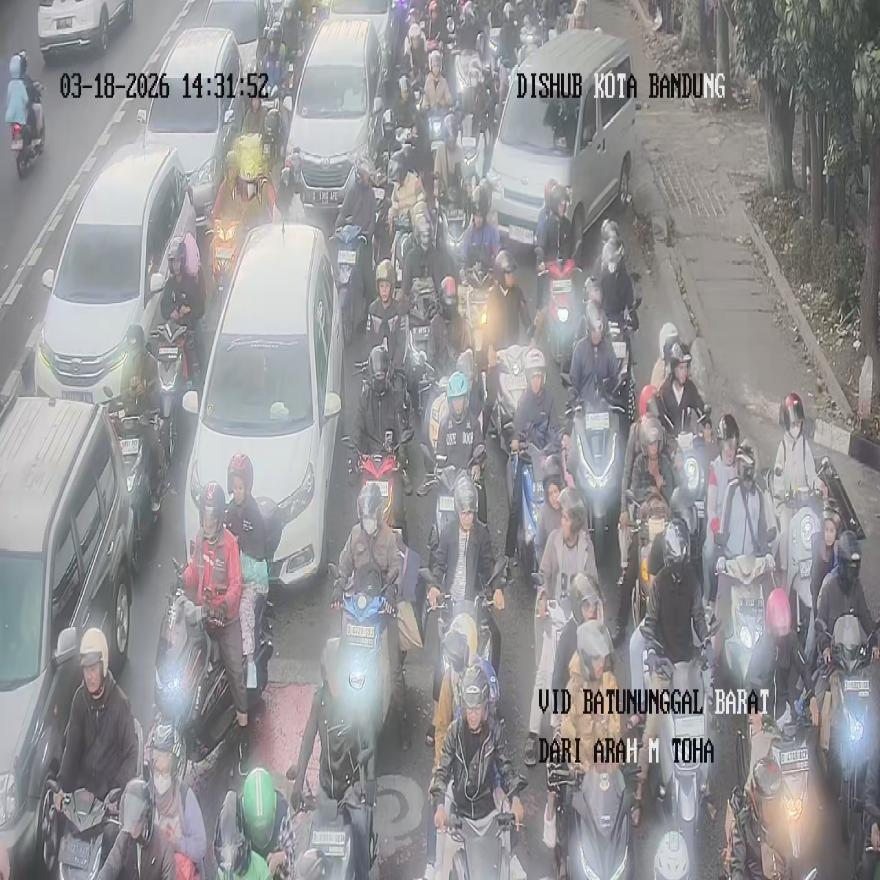Mobil: (0, 397, 132, 875), (184, 221, 344, 587), (34, 140, 197, 416), (484, 26, 637, 259), (140, 27, 243, 222), (285, 18, 383, 209), (36, 0, 132, 60)
Motor: (154, 556, 274, 791), (423, 558, 505, 744), (644, 652, 710, 877), (816, 616, 880, 848), (725, 709, 811, 880), (329, 561, 405, 753), (769, 468, 825, 661), (288, 766, 379, 880), (546, 761, 632, 880), (114, 397, 170, 573), (436, 775, 526, 880), (714, 554, 774, 708), (568, 392, 621, 564), (46, 781, 121, 880), (150, 309, 201, 449), (344, 432, 406, 547), (624, 488, 670, 633), (507, 438, 550, 586), (455, 269, 494, 429), (670, 434, 708, 594), (536, 254, 583, 375), (335, 226, 371, 345), (487, 344, 525, 452), (605, 307, 638, 429), (391, 194, 431, 291), (10, 86, 44, 177), (208, 215, 242, 298), (437, 200, 467, 282)
